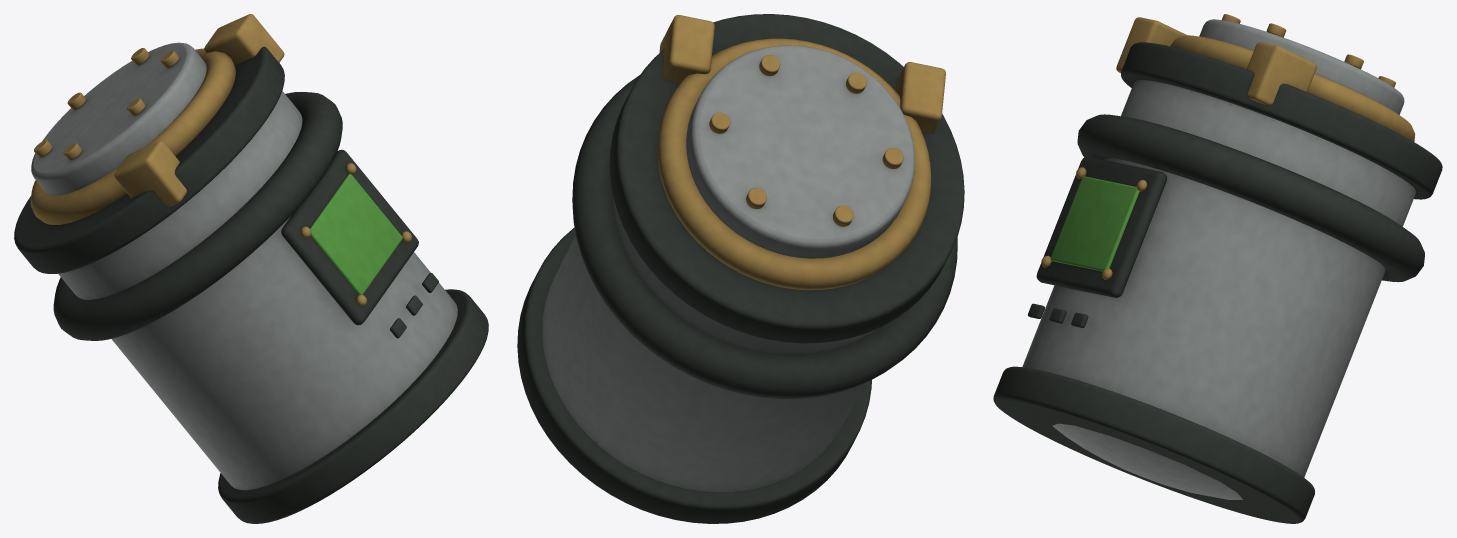
3 renders of one model, left to right at view 1: azimuth 30°, elevation 25°; view 2: azimuth 150°, elevation 25°; view 3: azimuth 270°, elevation 25°, orthographic. The views are drawn at different scales.
Visible parts, largest first — view 1: Pressure shell; view 2: Pressure shell; view 3: Pressure shell.
Boxes of the visible parts, x1,y1,x2,y2 form: Pressure shell: (14, 14, 488, 523); Pressure shell: (517, 14, 964, 523); Pressure shell: (993, 14, 1442, 523).
Size of the model in its own units: 1.2 by 1.33 by 1.13.
1 material, 1 textured.
